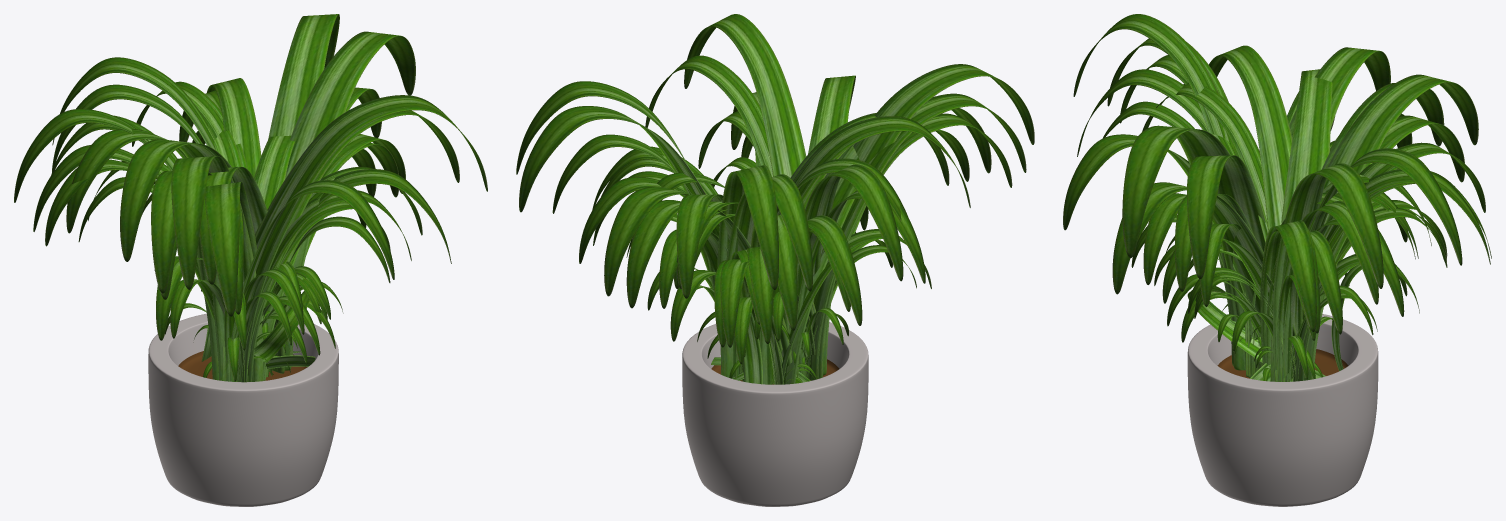
3 renders of one model, left to right at view 1: azimuth 30°, elevation 25°; view 2: azimuth 150°, elevation 25°; view 3: azimuth 270°, elevation 25°, orthographic. The views are drawn at different scales.
Visible parts, largest first — view 1: Cylinder_0, Plane.052_52, Plane.048_48, Plane.043_43, Plane.078_78, Plane.011_11, Plane.060_60, Plane.042_42, Plane.065_65, Plane.028_28, Plane.015_15, Plane.079_79 (+27 smaller); view 2: Cylinder_0, Plane.052_52, Plane.043_43, Plane.042_42, Plane.078_78, Plane.090_90, Plane.091_91, Plane.079_79, Plane.073_73, Plane.065_65, Plane.060_60, Plane.002_2 (+26 smaller); view 3: Cylinder_0, Plane.060_60, Plane.073_73, Plane.042_42, Plane.048_48, Plane.052_52, Plane.015_15, Plane.043_43, Plane.078_78, Plane.056_56, Plane.051_51, Plane.017_17 (+26 smaller).
Part boxes in pixels (box(x1,y1,x2,y2)): Cylinder_0: box(148, 313, 338, 506); Plane.052_52: box(237, 95, 487, 382); Plane.048_48: box(284, 31, 415, 370); Plane.043_43: box(171, 156, 263, 381); Plane.078_78: box(268, 14, 339, 355); Plane.011_11: box(204, 181, 267, 377); Plane.060_60: box(120, 139, 288, 341); Plane.042_42: box(52, 57, 268, 376); Plane.065_65: box(207, 78, 261, 177); Plane.028_28: box(230, 180, 394, 381); Plane.015_15: box(66, 129, 284, 373); Plane.079_79: box(151, 171, 261, 381); Cylinder_0: box(682, 322, 868, 506); Plane.052_52: box(684, 14, 806, 334); Plane.043_43: box(818, 64, 1034, 378); Plane.042_42: box(717, 165, 778, 375); Plane.078_78: box(519, 106, 706, 212); Plane.090_90: box(724, 174, 813, 377); Plane.091_91: box(789, 164, 903, 334); Plane.079_79: box(807, 93, 1026, 378); Plane.073_73: box(645, 55, 806, 377); Plane.065_65: box(604, 186, 792, 367); Plane.060_60: box(742, 116, 970, 381); Plane.002_2: box(626, 200, 791, 353); Cylinder_0: box(1187, 314, 1378, 506); Plane.060_60: box(1209, 45, 1292, 381); Plane.073_73: box(1187, 155, 1265, 370); Plane.042_42: box(1304, 74, 1478, 380); Plane.048_48: box(1273, 163, 1383, 381); Plane.052_52: box(1122, 125, 1233, 366); Plane.015_15: box(1270, 69, 1332, 381); Plane.043_43: box(1073, 14, 1253, 377); Plane.078_78: box(1282, 148, 1462, 381); Plane.056_56: box(1112, 182, 1263, 366); Plane.051_51: box(1142, 83, 1289, 381); Plane.017_17: box(1260, 220, 1316, 365).
Size of the model in its own units: 0.6314 by 0.6 by 0.5911.
3 materials, 1 textured.
